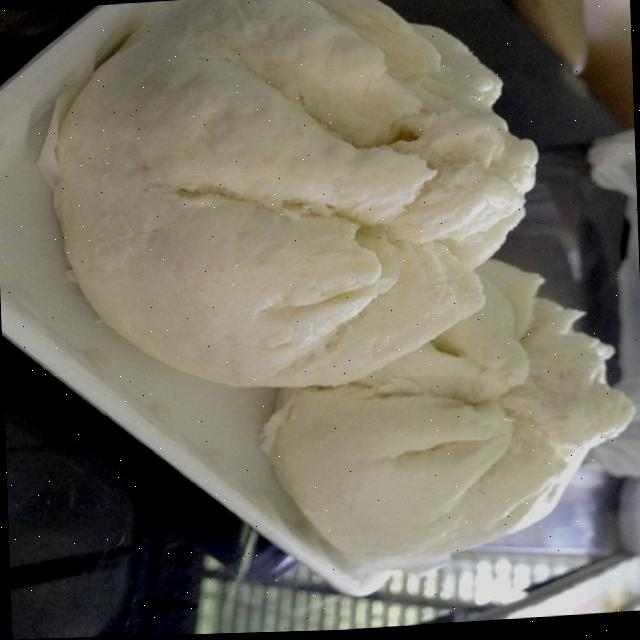带馅早点: (76, 0, 630, 595)
